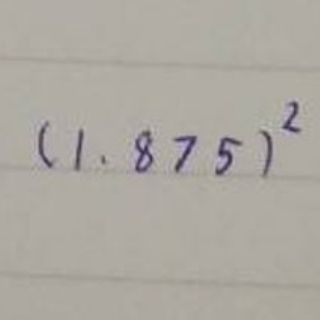.: (96, 150, 111, 169)
1: (72, 125, 86, 173)
2: (279, 99, 303, 134)
5: (213, 134, 243, 178)
7: (172, 133, 199, 175)
8: (132, 127, 156, 174)
